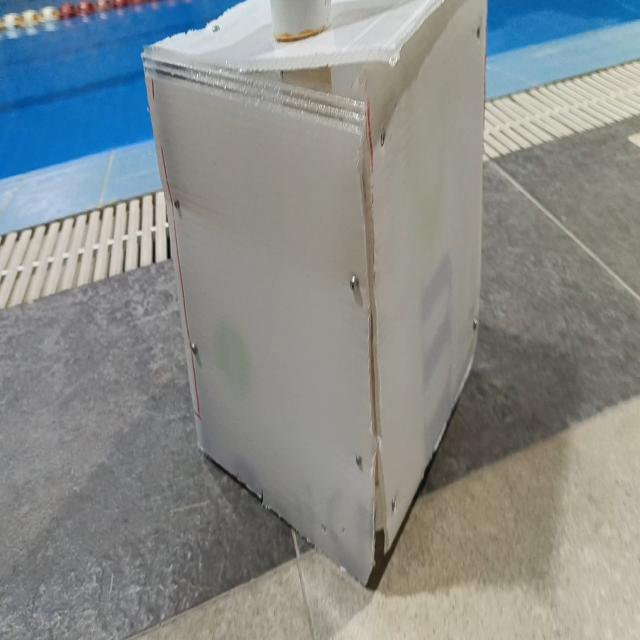Cube: (140, 0, 488, 587)
